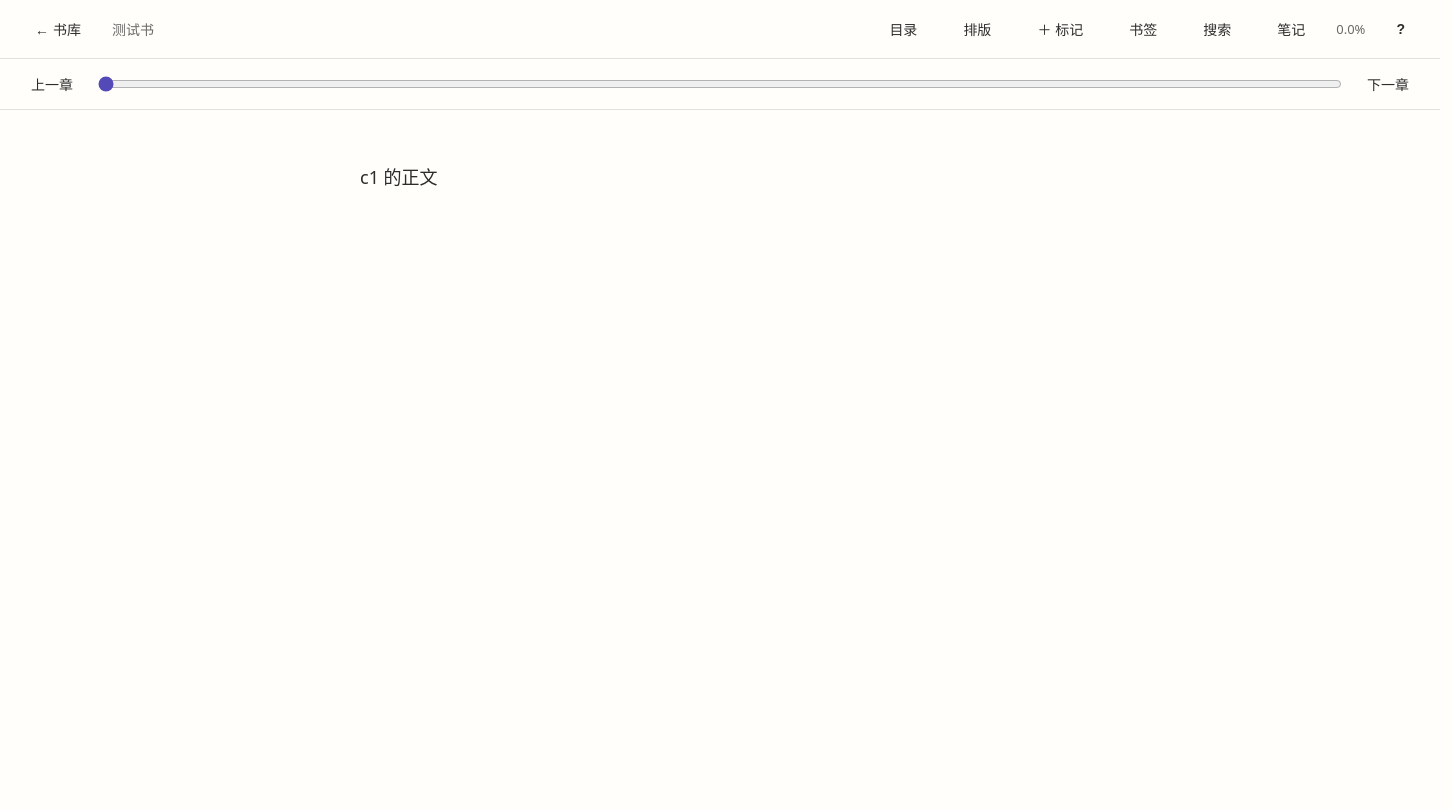
阅读器 › 搜索本书返回命中结果
Expected: the text "c1 的正文" is shown, [360,165,438,189]
Click the button "搜索": click(1217, 29) [1188,10,1246,48]
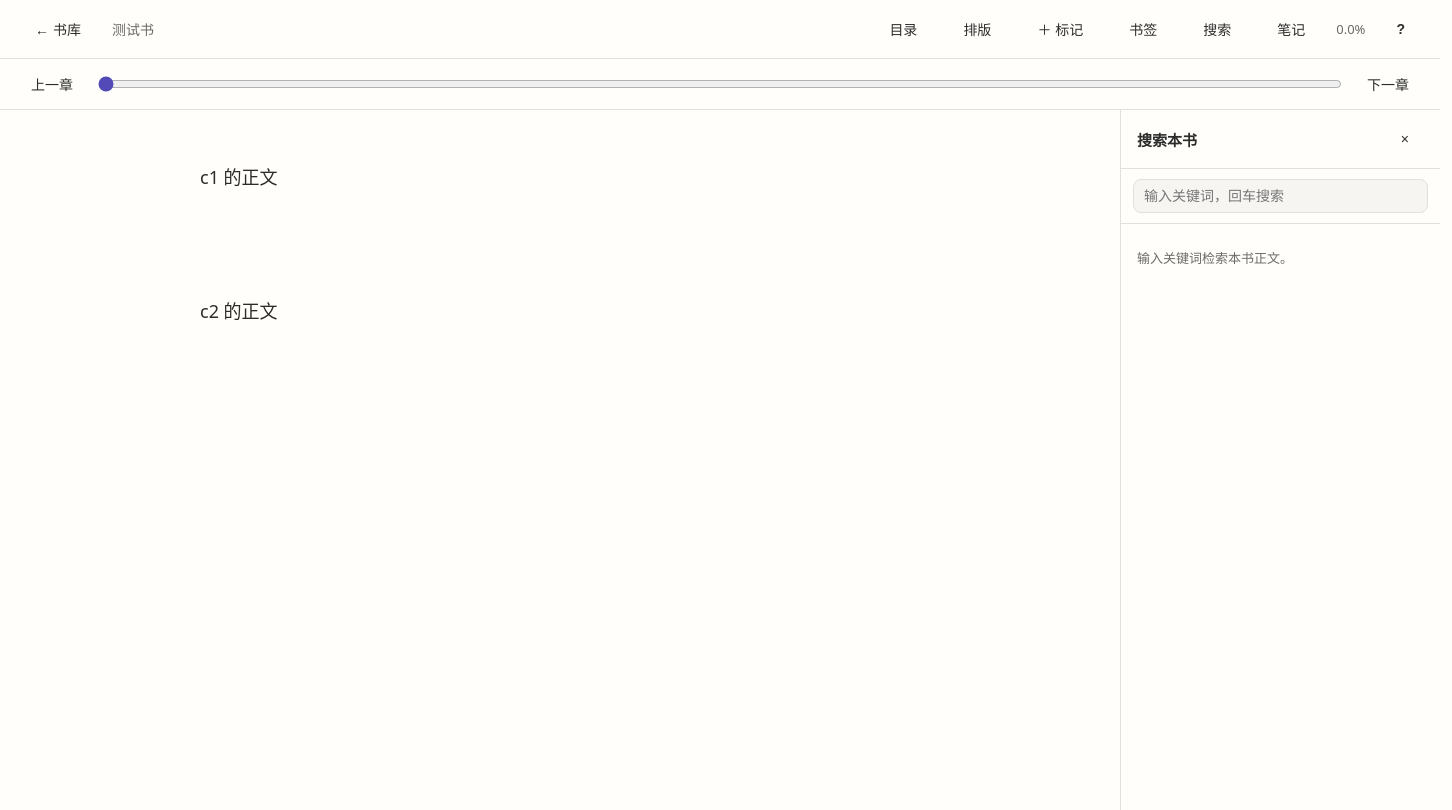
In the search field with class "search-input": (1280, 196) [1133,179,1428,213], type "正文"
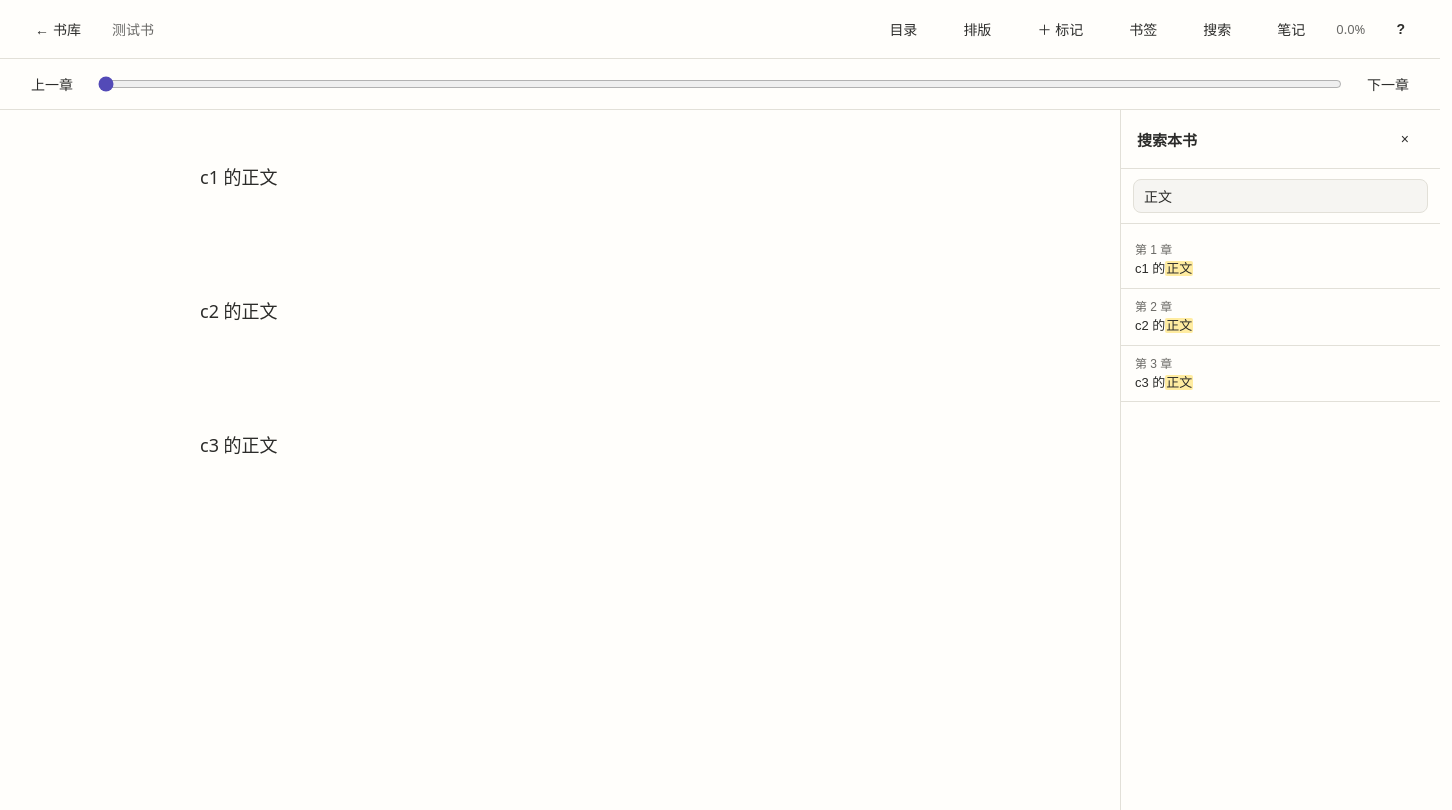
Expected: the button with class "search-item" showing "第 1 章 c1 的正文" is shown, [1121,232,1440,289]
Expected: the number of buttons with class "search-item" is 3, [1121,232,1440,289]; [1121,289,1440,346]; [1121,346,1440,402]
Expected: the 1st text "正文" is shown, [1165,261,1193,276]
